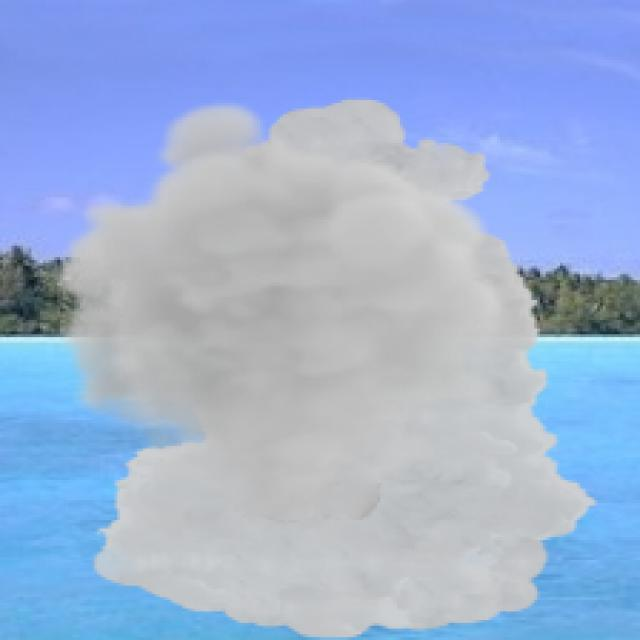Smoke: (48, 97, 603, 637)
